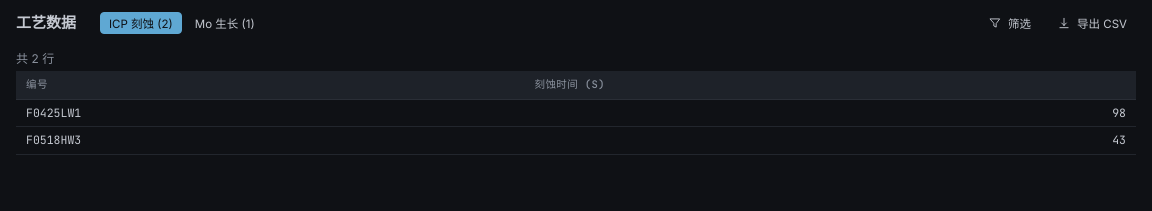
Test: Process 页面 › 文本筛选过滤行
Expected: the text "F0425LW1" is shown, 16,99 -> 524,127
Click the button titled "筛选".
click(1010, 23)  # box 979,12 -> 1040,34
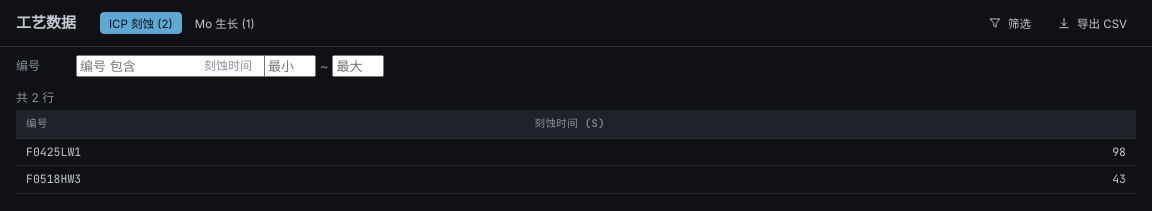
Type "HW" into the field with placeholder "编号 包含".
click(174, 66); type("HW")  # box 76,55 -> 272,77
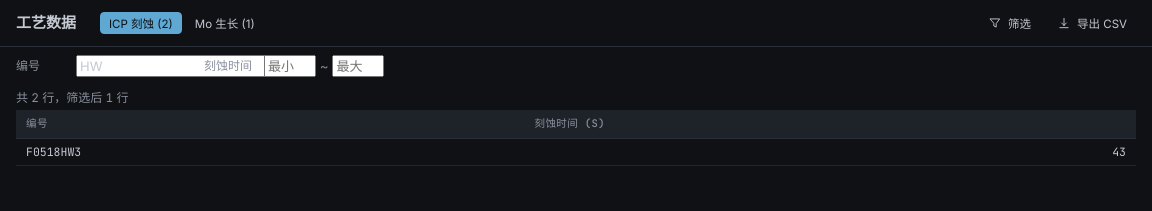
Expected: the text "F0425LW1" is gone
Expected: the text "F0518HW3" is shown, 16,138 -> 524,166
